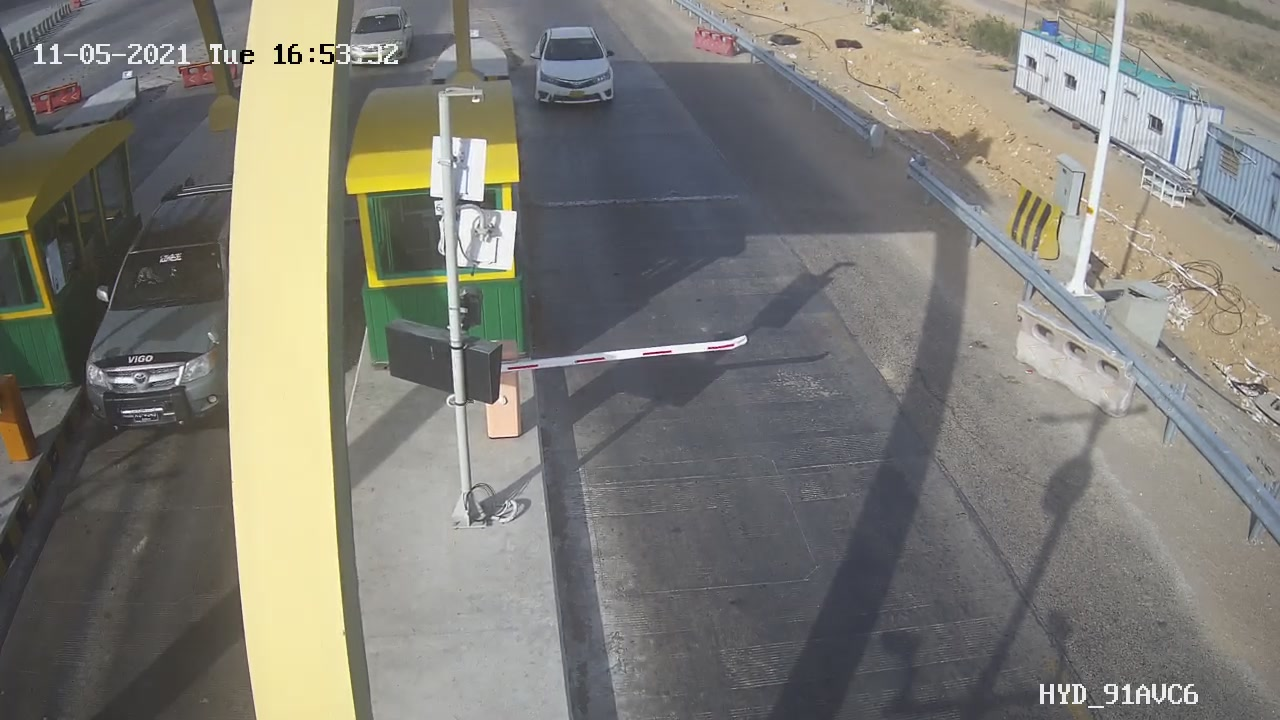F1: (520, 14, 633, 118)
